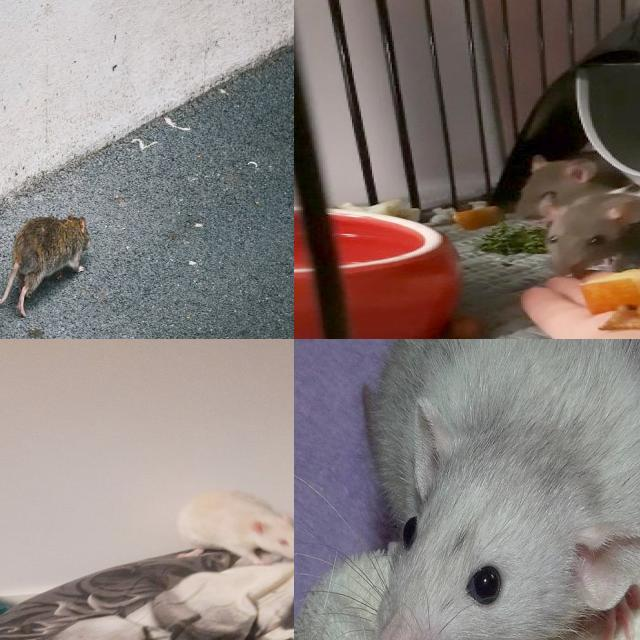rat: (371, 339, 640, 640), (175, 488, 294, 568), (538, 183, 640, 274), (515, 156, 640, 226), (11, 213, 88, 282)
